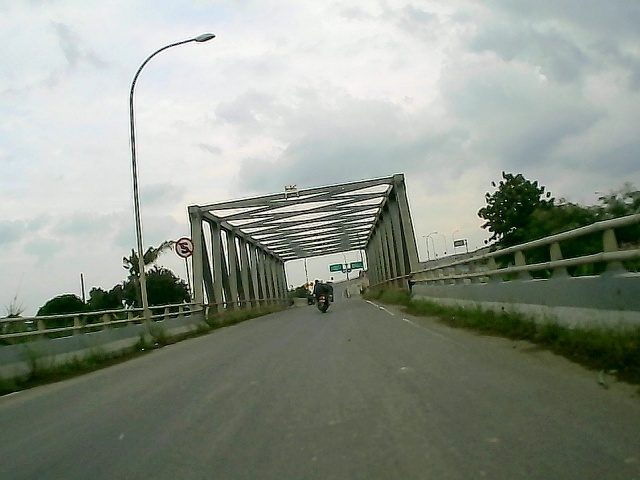Dilarang berhenti: (174, 238, 196, 260)
